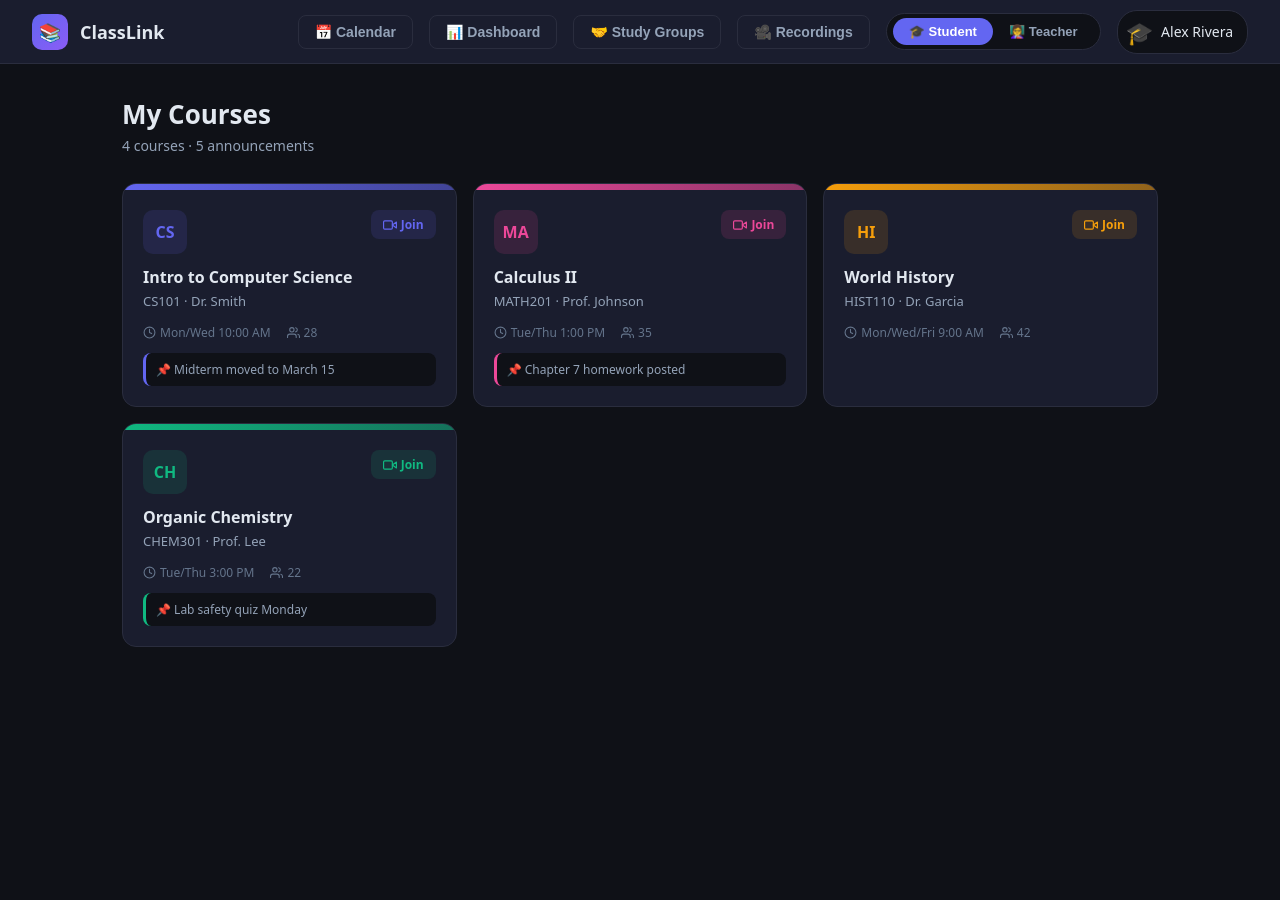
Test: App component › teacher does NOT see Recordings button
The image size is (1280, 900).
Click the button "👩‍🏫 Teacher". click: (1043,32)
box: [993, 18, 1094, 45]
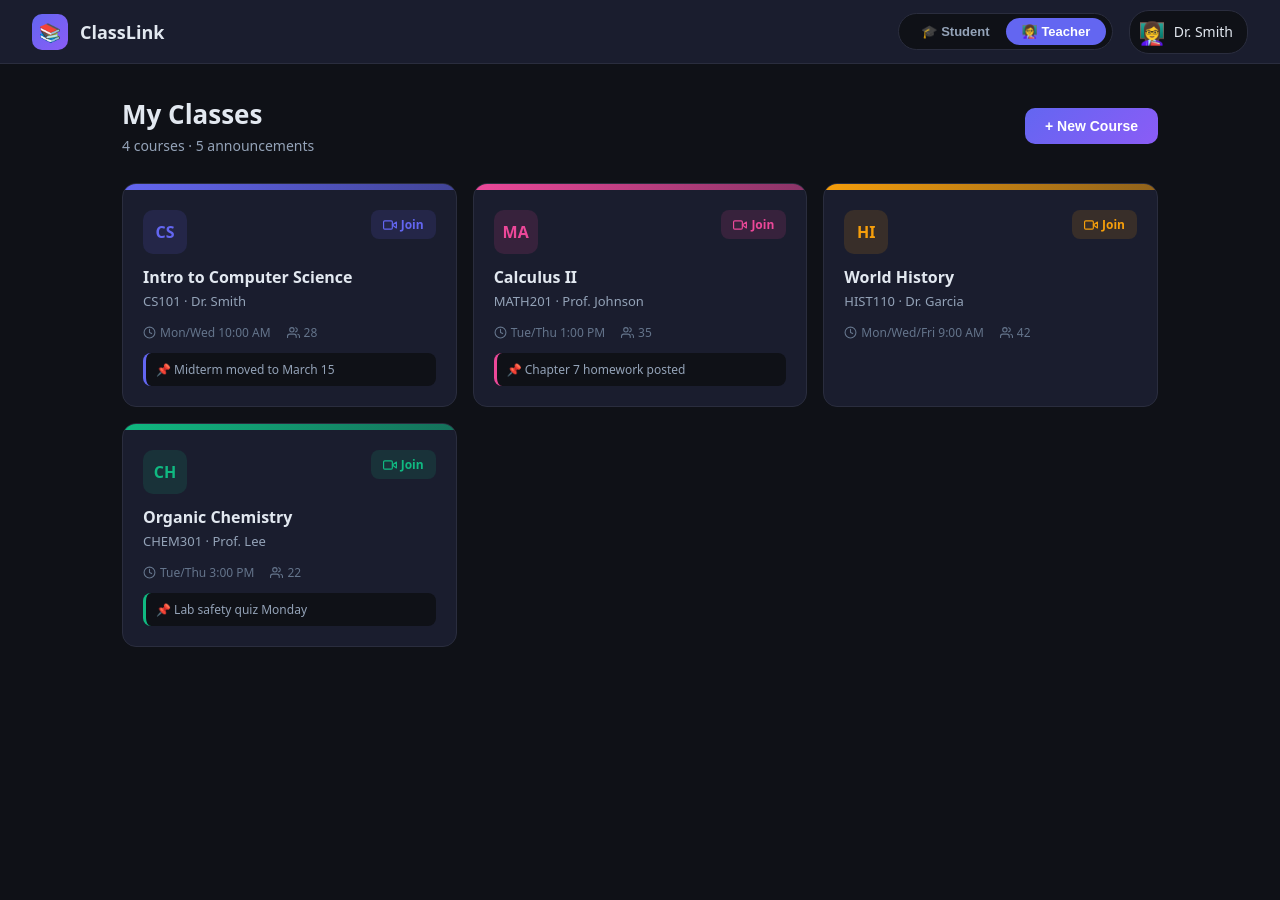
Check: the button "🎥 Recordings" is gone
